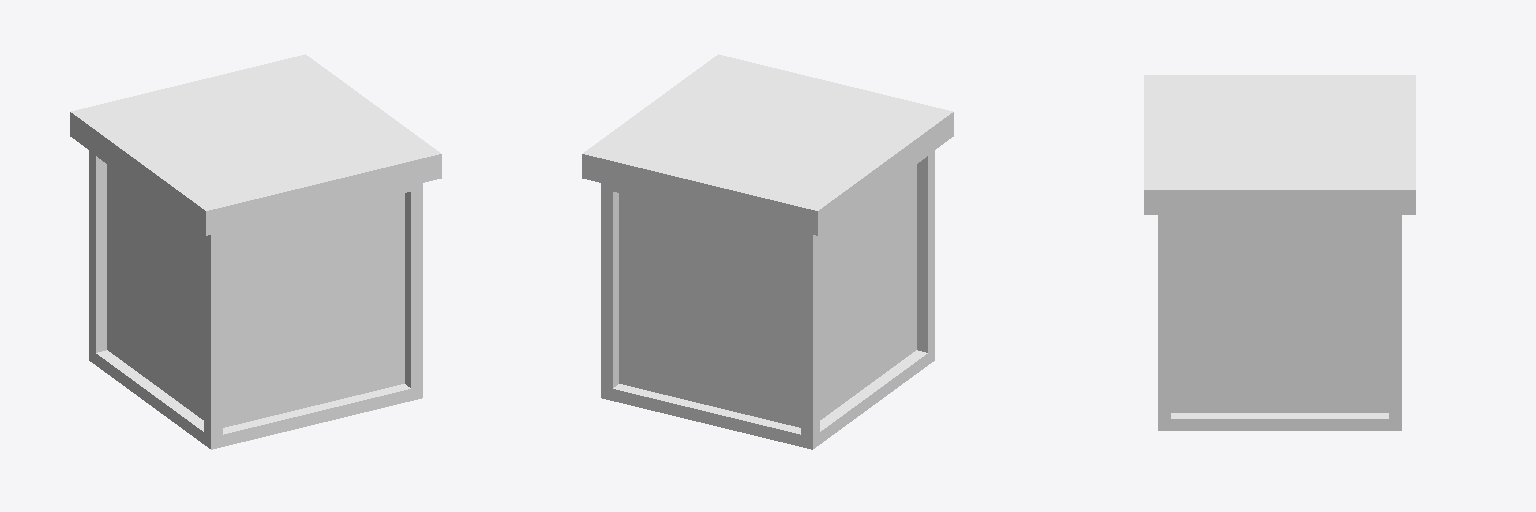
Rendered from block_20_20_20.obj.
3 views of the same model, side by side, from view 1: azimuth 30°, elevation 25°; view 2: azimuth 150°, elevation 25°; view 3: azimuth 270°, elevation 25° (orthographic).
Parts seen in each view (by area): view 1: object 1; view 2: object 1; view 3: object 1.
Part boxes in pixels (x1,y1,x2,y2): object 1: (70,54,441,449); object 1: (582,54,953,449); object 1: (1144,75,1415,430).
Bounding box in the file's own units: 2 × 2 × 2.